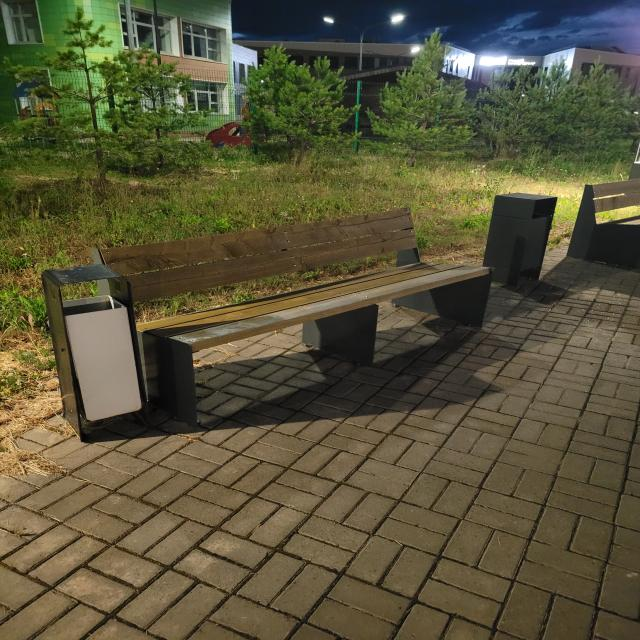Bench: (93, 207, 493, 426)
